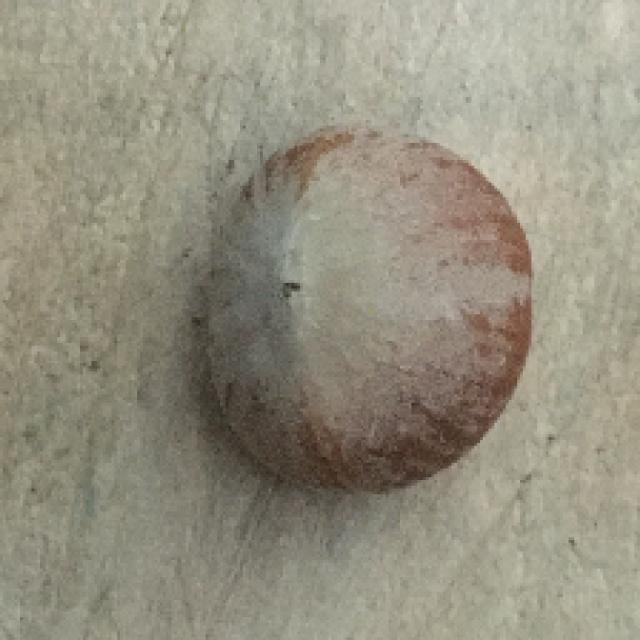qualityHazelnut: (186, 125, 535, 504)
